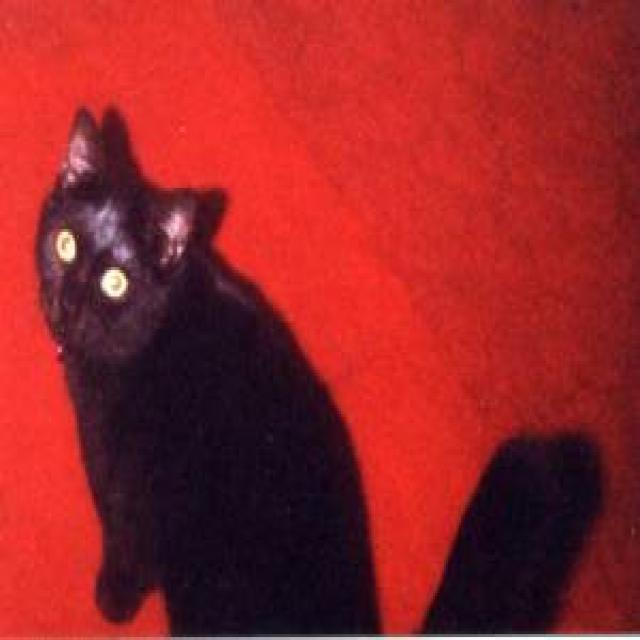Bombay: (32, 99, 204, 374)
